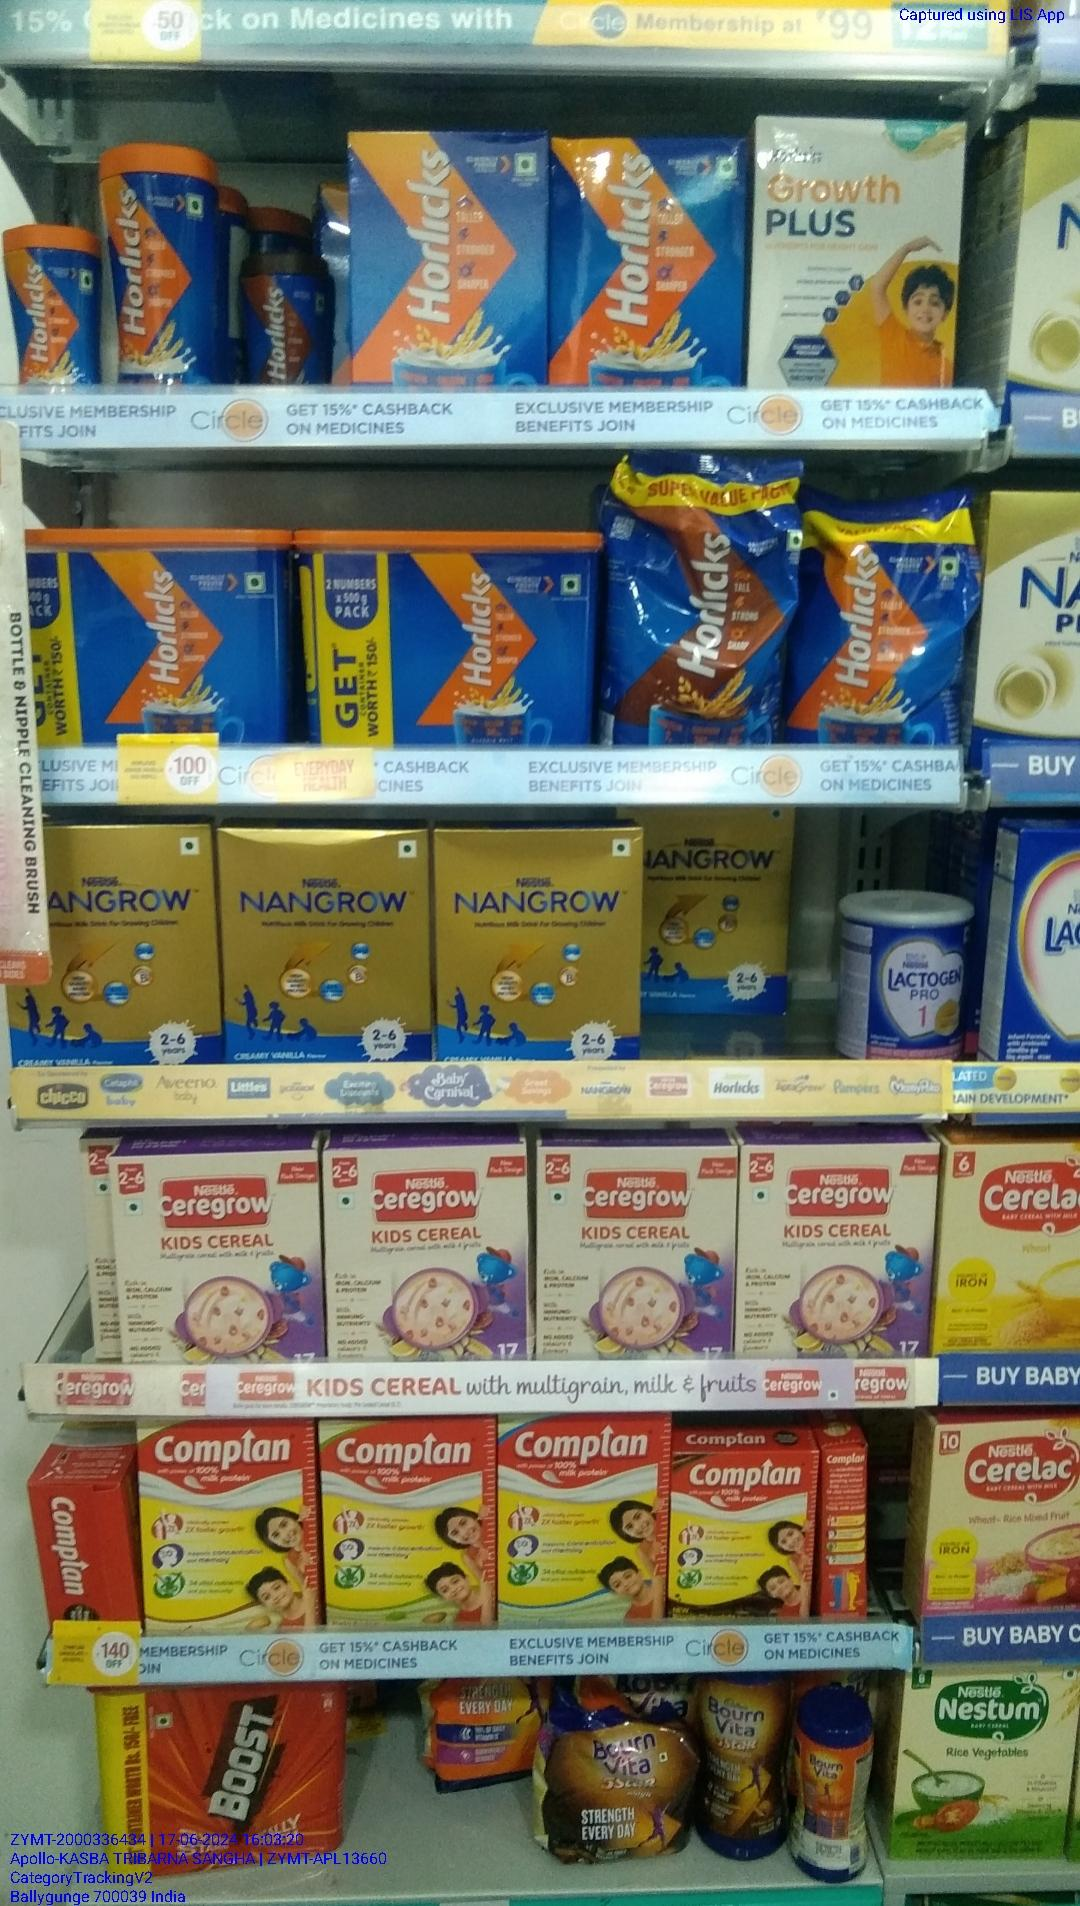BOURN_VITA_FIVE_STAR_MAGIC_500_G_JAR: (704, 1678, 789, 1861)
BOURN_VITA_FIVE_STAR_MAGIC_500_G_POUCH: (537, 1699, 695, 1863)
COMPLAN_CHOCOLATE_200_GMS_PACK: (674, 1454, 817, 1621)
COMPLAN_CREAMY_CLASSIC_500_G_PACK: (497, 1412, 666, 1627)
COMPLAN_KESAR_BADAM_500_GMS_PACK: (140, 1418, 314, 1634)
COMPLAN_PISTA_BADAM_500_GMS_PACK: (322, 1418, 492, 1628)
HORLICK_CHOCOLATE_200_G_JAR: (241, 247, 333, 382)
HORLICK_CHOCOLATE_750_G_POUCH: (606, 461, 782, 745)
HORLICK_CLASSIC_MALT_200_G_JAR: (8, 217, 97, 387)
HORLICK_CLASSIC_MALT_500_G_JAR: (106, 141, 228, 386)
HORLICK_CLASSIC_MALT_500_G_PACK: (353, 136, 542, 390), (556, 139, 742, 382)
HORLICK_CLASSIC_MALT_750_G_POUCH: (801, 491, 965, 742)
